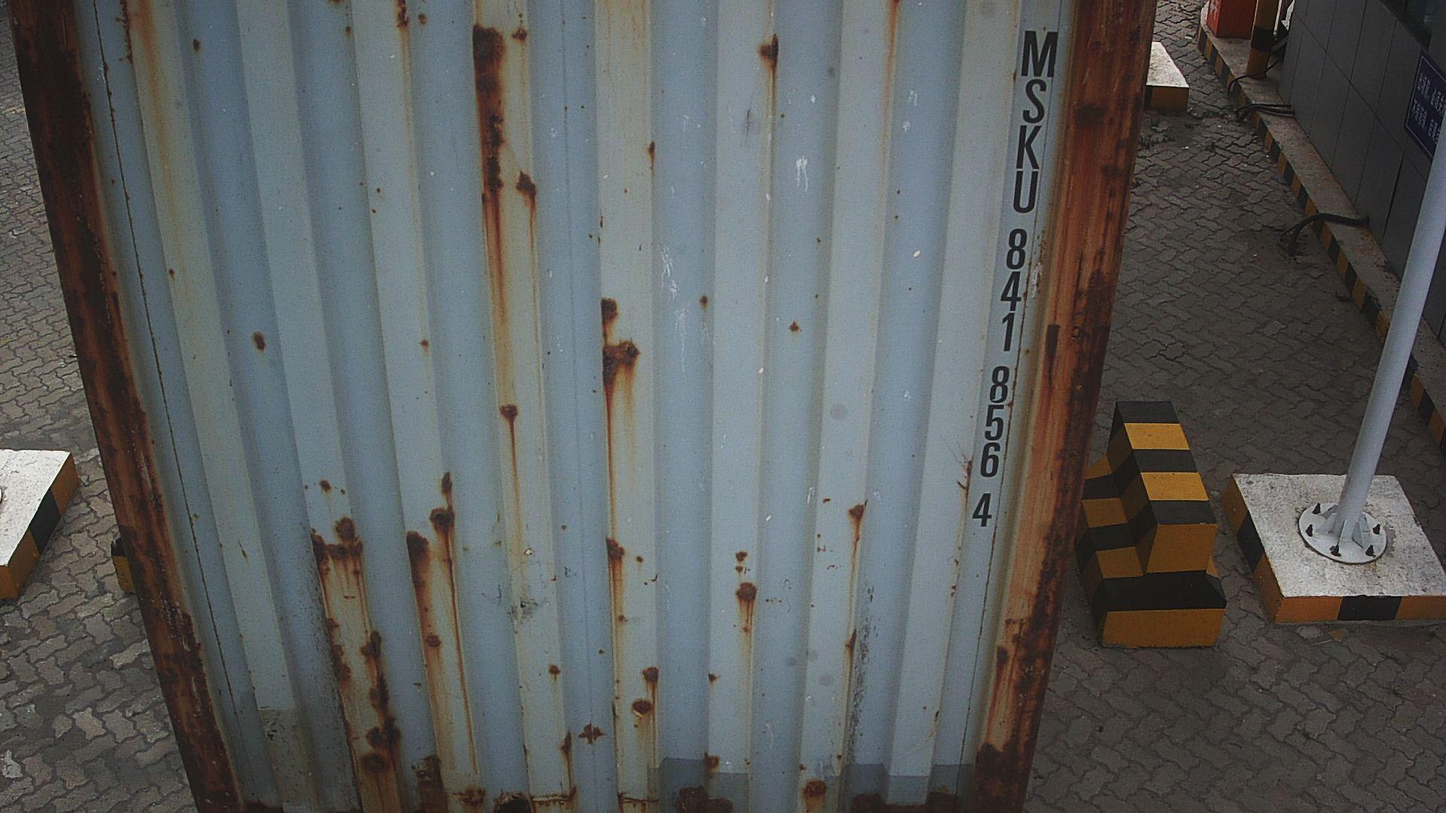container-numbers: (962, 23, 1063, 535)
